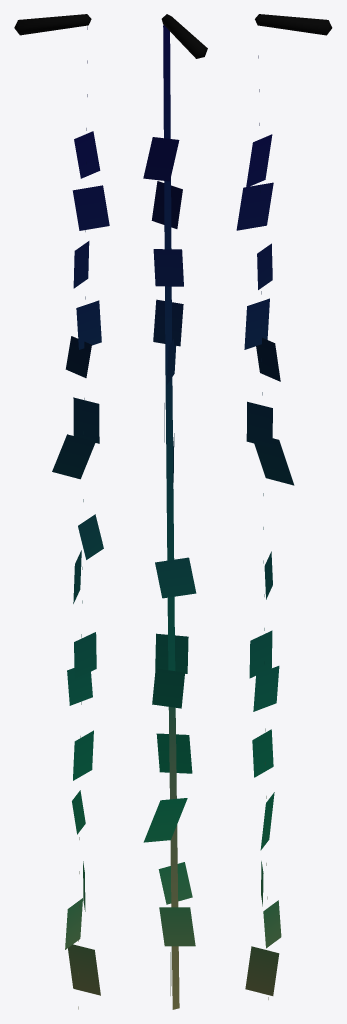
The model's file is SM_Pit_TagStrand_A_LOD1.fbx.
The picture shows the model from 3 angles, left to right: view 1: azimuth 90°, elevation 25°; view 2: azimuth 210°, elevation 25°; view 3: azimuth 270°, elevation 25°; orthographic projection.
Parts seen in each view (by area): view 1: SM_Pit_TagStrand_A_LOD1; view 2: SM_Pit_TagStrand_A_LOD1; view 3: SM_Pit_TagStrand_A_LOD1.
Part boxes in pixels (<box>): SM_Pit_TagStrand_A_LOD1: <box>14,14,109,1009</box>; SM_Pit_TagStrand_A_LOD1: <box>143,14,207,1009</box>; SM_Pit_TagStrand_A_LOD1: <box>236,14,332,999</box>.
Size of the model in its own units: 0.0785 by 1.52 by 0.1324.
